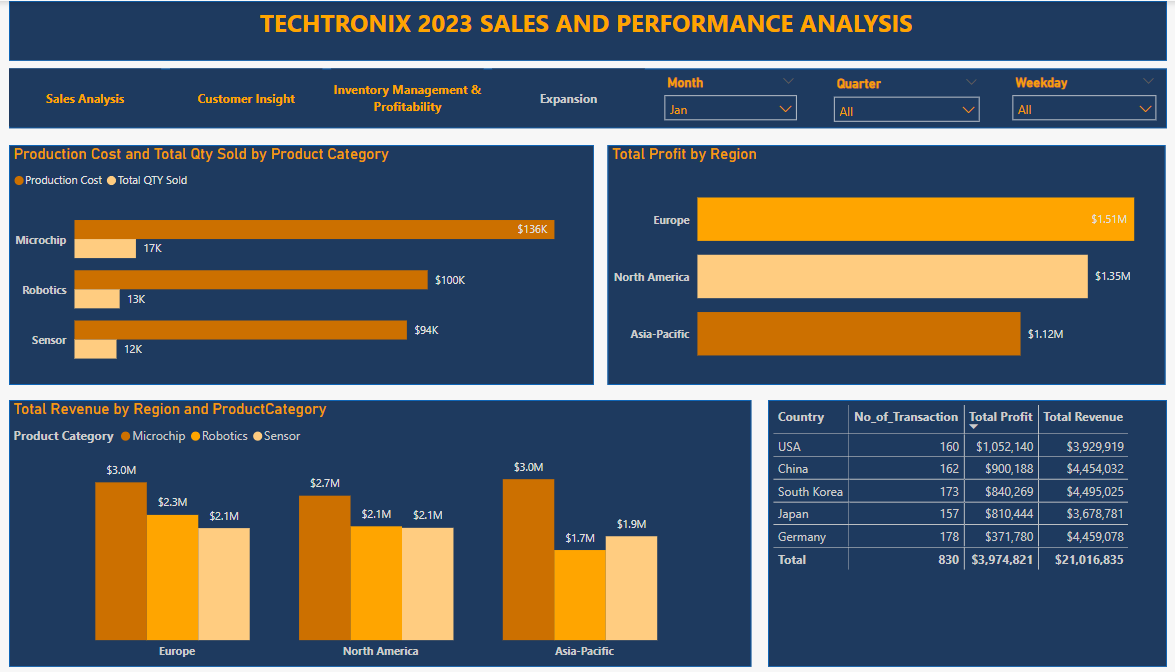

Layout of this report page (visuals, bound fields, positions):
{"tool":"powerbi","page":{"name":"Expansion","canvas":[1302,750],"ordinal":3},"visuals":[{"type":"shape","box":[848.3,440.7,440.7,294.9],"z":0},{"type":"shape","box":[9.9,440.7,820.2,294.9],"z":1000},{"type":"shape","box":[671,159.1,616.4,265.1],"z":2000},{"type":"shape","box":[9.9,159.1,646.2,265.1],"z":3000},{"type":"shape","box":[9.9,74.6,1279.1,66.3],"z":4000},{"type":"shape","box":[9.9,0,1279.1,66.3],"z":5000},{"type":"textbox","box":[165.7,0,970.9,66.3],"z":6000},{"type":"pageNavigator","box":[9.9,74.6,704.2,64.6],"z":7000},{"type":"clusteredBarChart","title":"Production Cost and Total Qty Sold by Product Category","fields":{"Category":["Product_Dim.ProductCategory"],"Y":["Measures (2).Production Cost","Measures (2).Total QTY Sold"]},"box":[9.9,159.1,646.2,265.1],"z":8000},{"type":"clusteredColumnChart","fields":{"Y":["Measures (2).Total Revenue"],"Category":["Location_Dim.Region"],"Series":["Product_Dim.ProductCategory"]},"box":[9.9,440.7,820.2,294.9],"z":9000},{"type":"clusteredBarChart","fields":{"Category":["Location_Dim.Region"],"Y":["Measures (2).Total Profit"]},"box":[671,159.1,618,265.1],"z":10000},{"type":"tableEx","fields":{"Values":["Location_Dim.Country","Measures (2).No_of_Transaction","Measures (2).Total Profit","Measures (2).Total Revenue"]},"box":[848.3,440.7,439.1,294.9],"z":11000},{"type":"slicer","fields":{"Values":["Calender_Dim.Month Name"]},"box":[724.1,76.2,165.7,58],"z":12000},{"type":"slicer","fields":{"Values":["Calender_Dim.Quarter"]},"box":[911.3,77.9,180.6,59.6],"z":13000},{"type":"slicer","fields":{"Values":["Calender_Dim.Day of the Week"]},"box":[1108.5,76.2,178.9,61.3],"z":14000}]}

Visuals, with their boxes in screenshot pixels (x1, y1, x2, y2), scaled from the page's 1302x750 canvas onto the 1175x672 screenshot:
shape: bbox=[766, 395, 1163, 659]
shape: bbox=[9, 395, 749, 659]
shape: bbox=[606, 143, 1162, 380]
shape: bbox=[9, 143, 592, 380]
shape: bbox=[9, 67, 1163, 126]
shape: bbox=[9, 0, 1163, 59]
textbox: bbox=[150, 0, 1026, 59]
pageNavigator: bbox=[9, 67, 644, 125]
"Production Cost and Total Qty Sold by Product Category" clusteredBarChart: bbox=[9, 143, 592, 380]
clusteredColumnChart - Measures (2).Total Revenue x Location_Dim.Region: bbox=[9, 395, 749, 659]
clusteredBarChart - Location_Dim.Region x Measures (2).Total Profit: bbox=[606, 143, 1163, 380]
tableEx - Location_Dim.Country x Measures (2).No_of_Transaction: bbox=[766, 395, 1162, 659]
slicer - Calender_Dim.Month Name: bbox=[653, 68, 803, 120]
slicer - Calender_Dim.Quarter: bbox=[822, 70, 985, 123]
slicer - Calender_Dim.Day of the Week: bbox=[1000, 68, 1162, 123]
